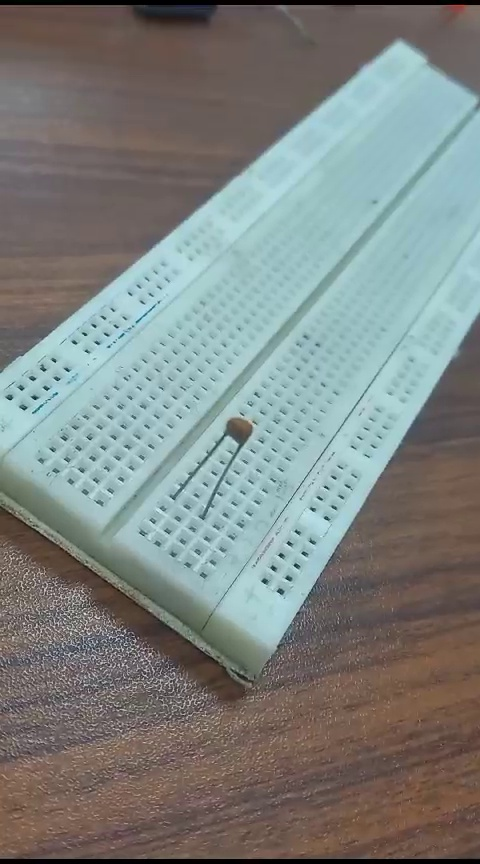ceramic capacitor: (198, 401, 278, 480)
